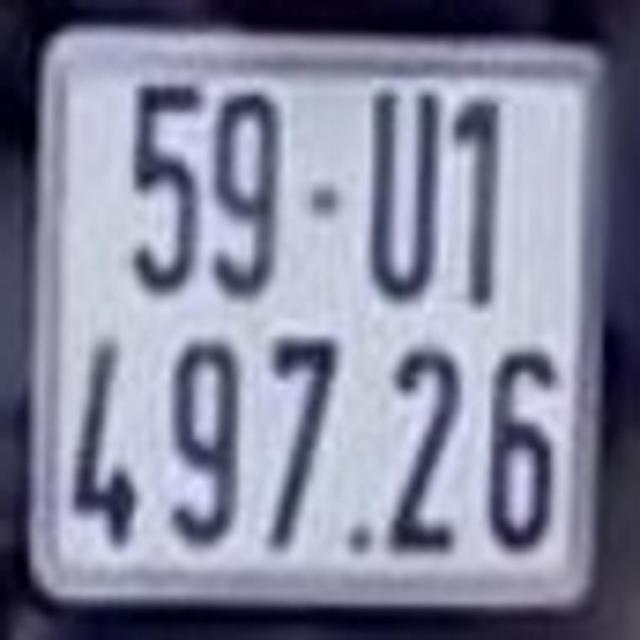1: (455, 96, 502, 297)
2: (388, 351, 464, 547)
4: (68, 346, 142, 559)
5: (130, 85, 200, 292)
6: (488, 339, 564, 546)
7: (262, 331, 338, 551)
9: (167, 337, 240, 546), (207, 83, 277, 295)
U: (364, 89, 442, 297)
